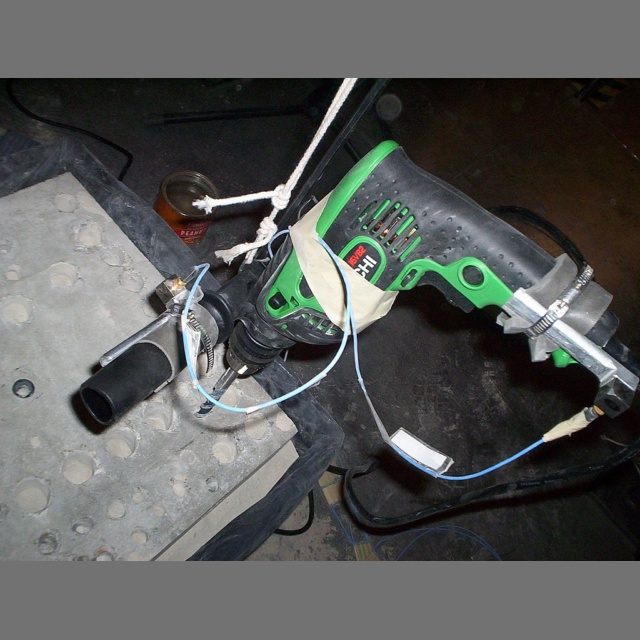drill: (81, 138, 631, 431)
